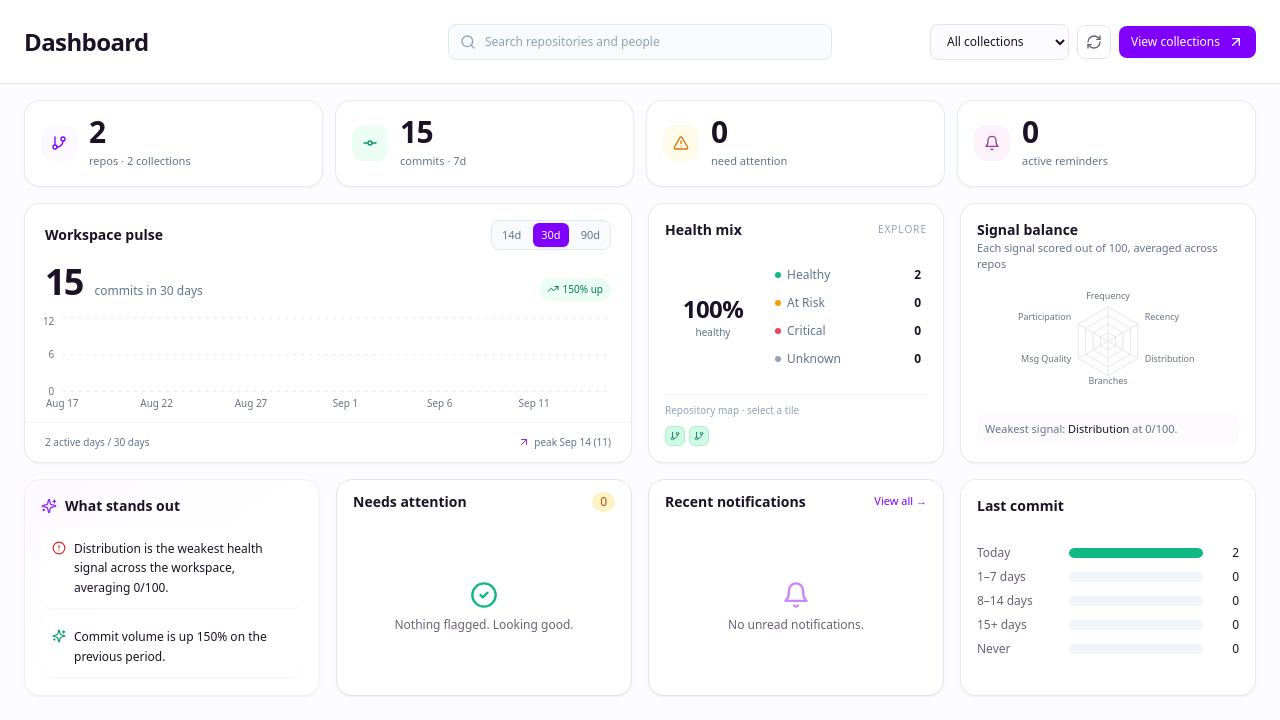
Test: DashboardPage — interactive workspace › scopes the metrics, activity and repository map to the selected collection
expect the text "15" next to "commits in" is shown: met, box [45,257,83,306]
Select "Spring Studio" in the dropdown named "Collection scope" at (1000, 42), box [930,24,1069,60]
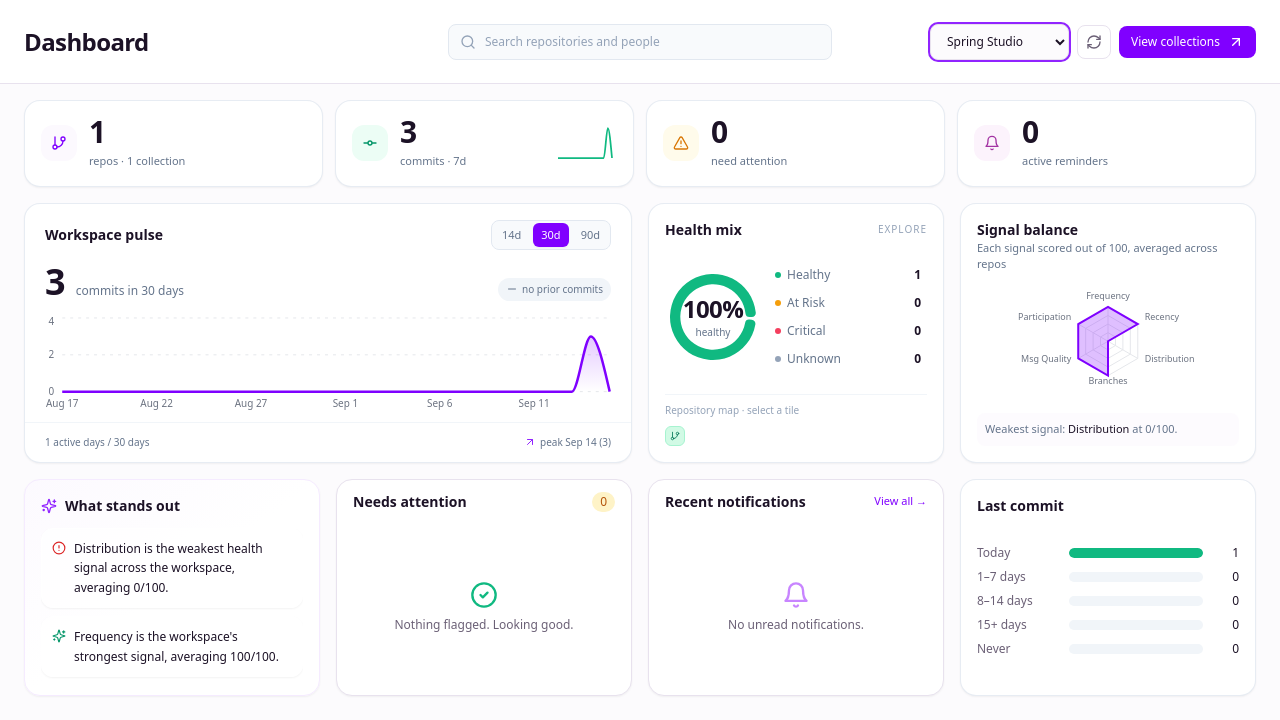
expect the text "3" next to "commits in" is shown: met, box [45,257,64,306]
expect the text "repos · 1 collection" is shown: met, box [89,153,185,170]
